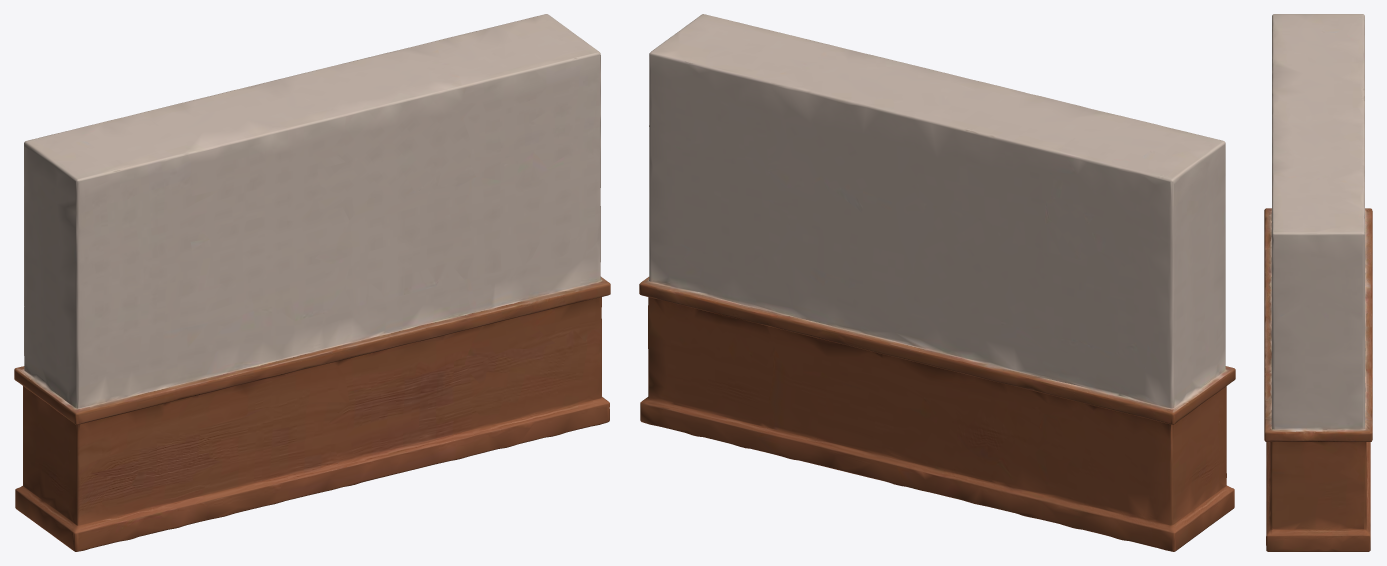
The model's file is decor_counter_wood_idle.glb.
3 renders of one model, left to right at view 1: azimuth 30°, elevation 25°; view 2: azimuth 150°, elevation 25°; view 3: azimuth 270°, elevation 25°, orthographic. The views are drawn at different scales.
Parts seen in each view (by area): view 1: tripo_node_a4071792-503c-453d-8ef7-2be60f48c9df; view 2: tripo_node_a4071792-503c-453d-8ef7-2be60f48c9df; view 3: tripo_node_a4071792-503c-453d-8ef7-2be60f48c9df.
Boxes of the visible parts, x1,y1,x2,y2 form: tripo_node_a4071792-503c-453d-8ef7-2be60f48c9df: (14,14,610,551); tripo_node_a4071792-503c-453d-8ef7-2be60f48c9df: (639,14,1235,551); tripo_node_a4071792-503c-453d-8ef7-2be60f48c9df: (1264,14,1372,551).
Bounding box in the file's own units: 1.52 × 1 × 0.31.
Materials: 1 (1 with a texture image).
